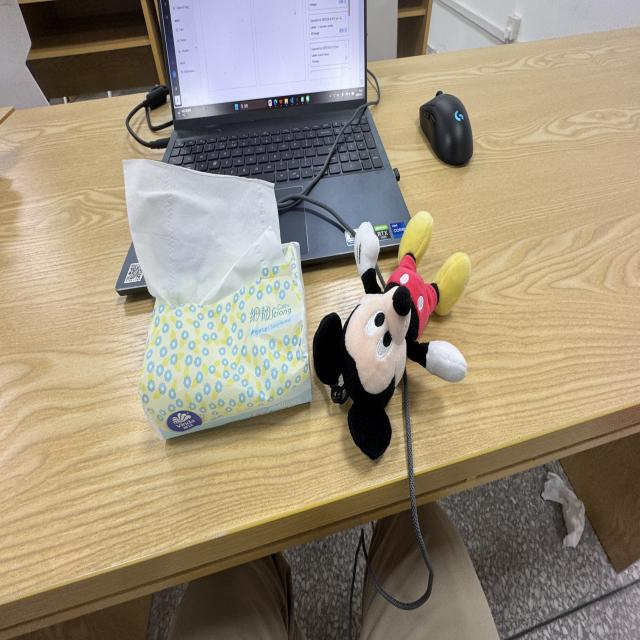mickey: (313, 212, 470, 459)
tissue: (124, 161, 310, 438), (139, 244, 311, 438), (124, 160, 280, 305), (200, 227, 282, 304), (542, 472, 584, 547)
